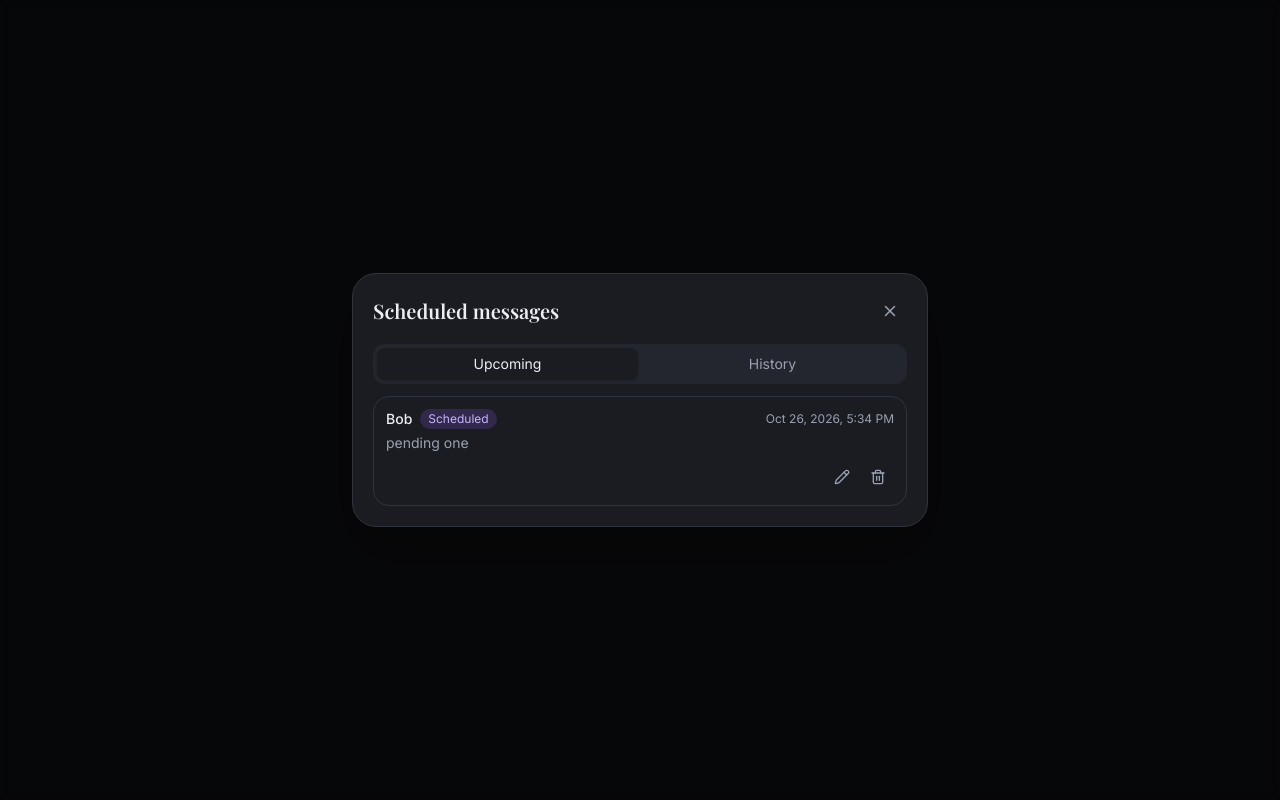
Test: ScheduledDialog › lists upcoming messages and keeps failures in History with the reason
Expected: the text "pending one" is shown, [386,434,469,451]
Expected: the text "failed one" is not shown
Step 1. Click the tab "History" → click(772, 364), box [642,348,903,380]
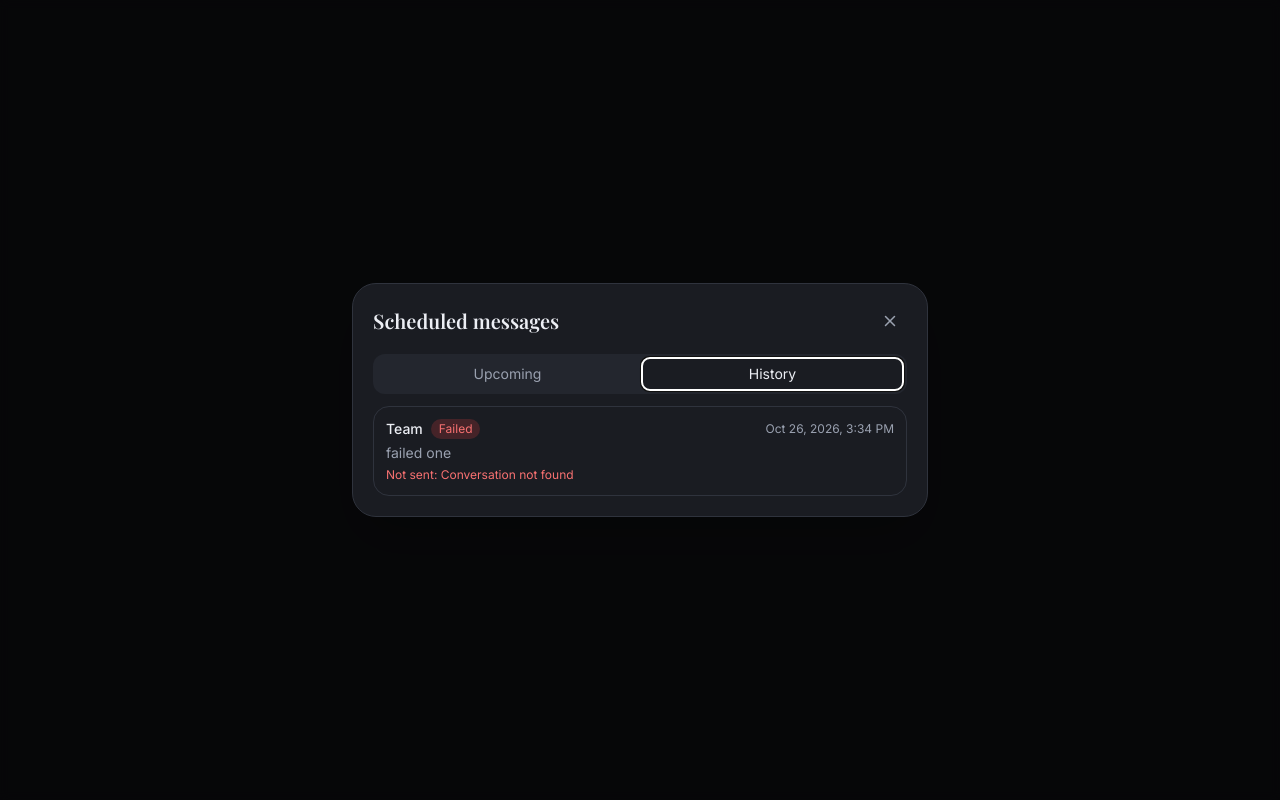
Result: the text "failed one" is shown at [386,444,451,461]
Result: the text "Not sent: Conversation not found" is shown at [386,467,574,482]
